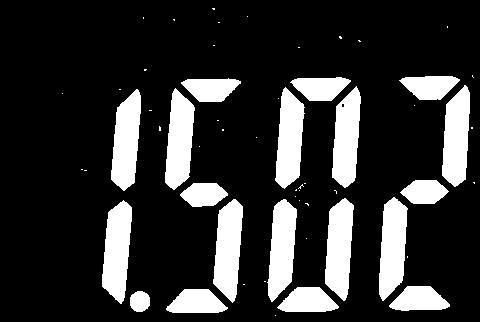0: (261, 70, 360, 317)
1: (102, 87, 143, 306)
2: (376, 70, 471, 314)
5: (160, 76, 249, 318)
dot: (127, 290, 152, 313)
